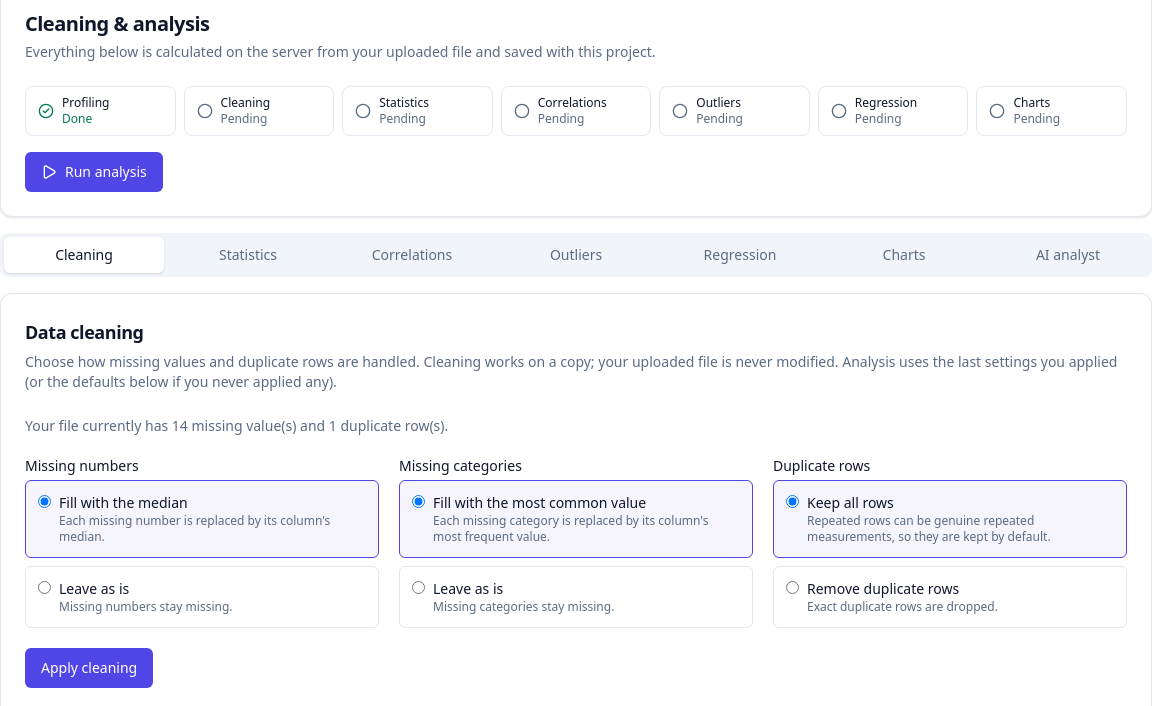
AnalysisWorkspace — cleaning › shows a readable error when cleaning fails
Step 1. Click the button "Apply cleaning" → click(89, 668), box x1=25 y1=648 x2=153 y2=688
(page scrolled)
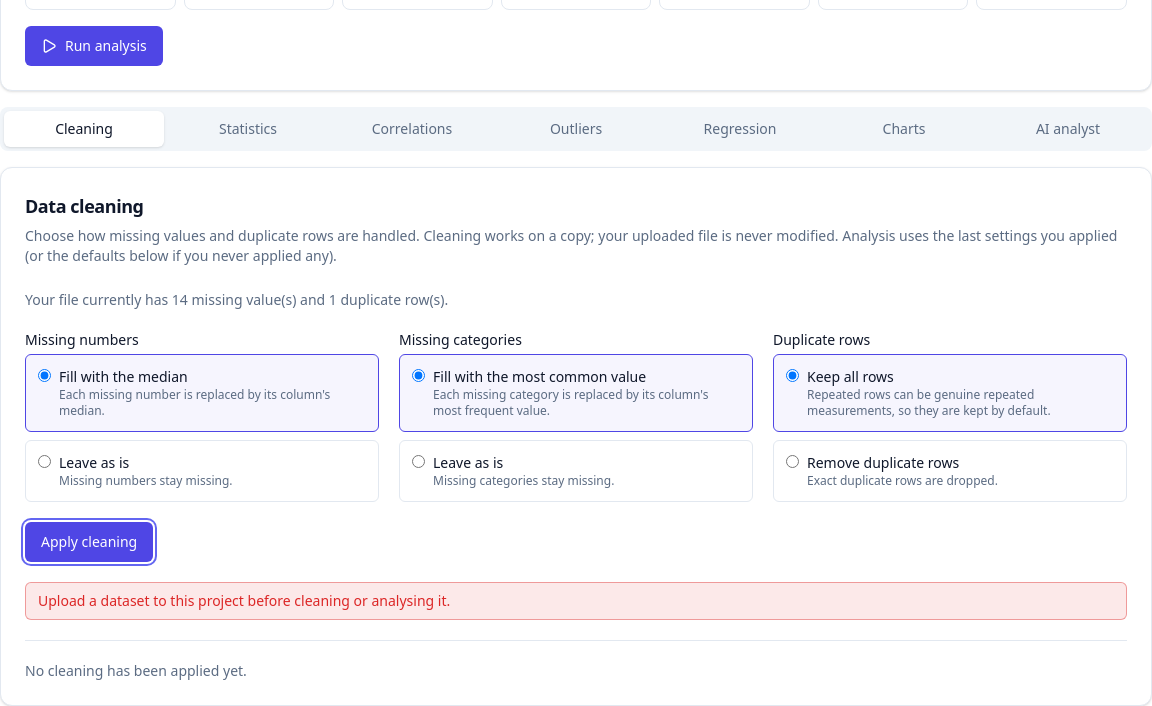
Check: the message reads "Upload a dataset to this project before cleaning or analysing it.", box x1=38 y1=591 x2=450 y2=610
